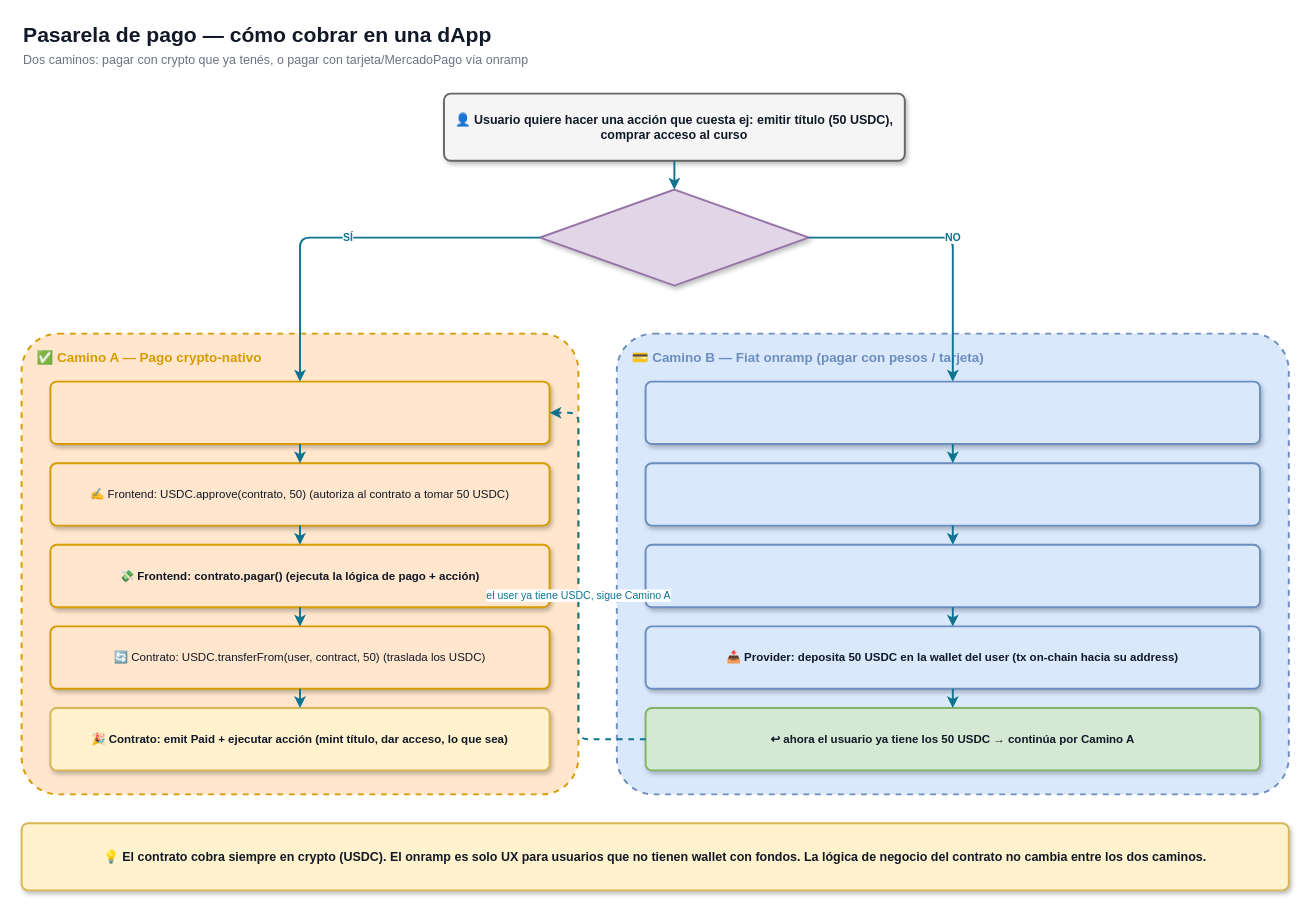
This 1311x914 diagram has some shape labels left out. The shapes that lost their labels are listed below. From the top down, each one's centre as x and y in pixels, then its label:
At point (675, 238): "¿el usuario tiene crypto en su wallet?".
At point (300, 413): "💰 Wallet del usuario ya tiene 50 USDC en Sepolia / Base".
At point (953, 413): "🪟 Frontend: abre widget de onramp (MoonPay · Transak · Lemon · Buenbit · Ripio)".
At point (953, 495): "💳 Usuario: paga en pesos MercadoPago · tarjeta · transferencia bancaria".
At point (953, 577): "🔁 Provider: convierte ARS → USDC (cobra una comisión, ej: 1-3%)".
